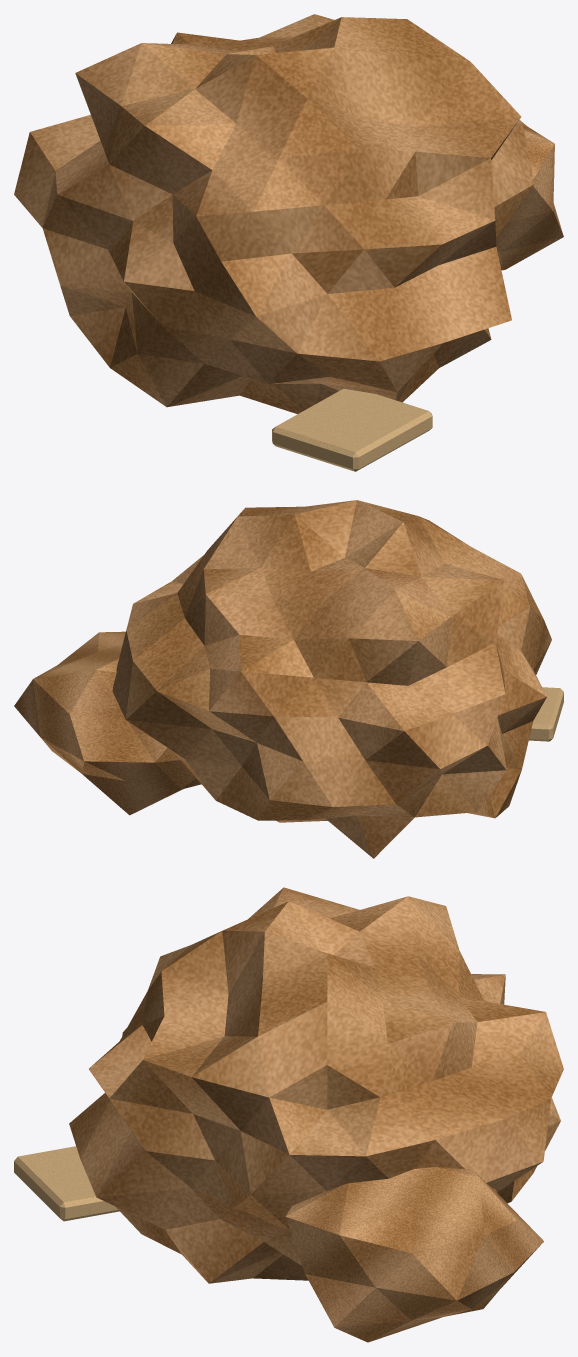
Rendered from spoil_boulder.glb.
3 views of the same model, one above another, from view 1: azimuth 30°, elevation 25°; view 2: azimuth 150°, elevation 25°; view 3: azimuth 270°, elevation 25° (orthographic). The views are drawn at different scales.
Parts seen in each view (by area): view 1: spoil_boulder_Sandstone, spoil_boulder_CutStone; view 2: spoil_boulder_Sandstone, spoil_boulder_CutStone; view 3: spoil_boulder_Sandstone, spoil_boulder_CutStone.
Boxes of the visible parts, x1,y1,x2,y2 form: spoil_boulder_Sandstone: [14, 14, 563, 414]; spoil_boulder_CutStone: [272, 388, 432, 471]; spoil_boulder_Sandstone: [14, 500, 551, 858]; spoil_boulder_CutStone: [529, 687, 563, 741]; spoil_boulder_Sandstone: [69, 887, 563, 1342]; spoil_boulder_CutStone: [14, 1146, 119, 1221].
Size of the model in its own units: 2.76 by 1.73 by 2.61.
Materials: 2 (2 with a texture image).
